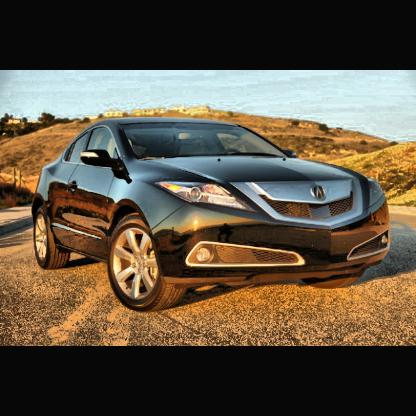Acura ZDX Hatchback 2012: (32, 116, 392, 313)
